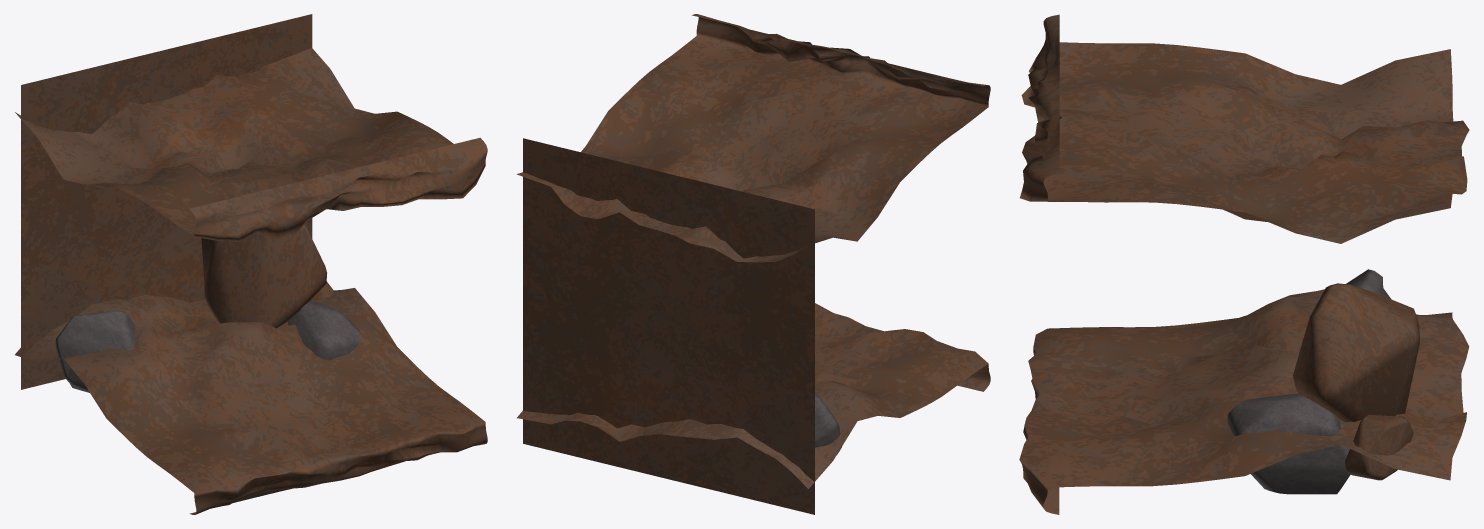
File: BackgroundScene_03.fbx
The picture shows the model from 3 angles, left to right: view 1: azimuth 30°, elevation 25°; view 2: azimuth 150°, elevation 25°; view 3: azimuth 270°, elevation 25°; orthographic projection. The views are drawn at different scales.
Parts seen in each view (by area): view 1: BackgroundScene_03; view 2: BackgroundScene_03; view 3: BackgroundScene_03.
Part boxes in pixels (left/top/right/bottom): BackgroundScene_03: left=15, top=14, right=487, bottom=514; BackgroundScene_03: left=517, top=14, right=990, bottom=514; BackgroundScene_03: left=1019, top=14, right=1469, bottom=514.
Size of the model in its own units: 10 by 10.44 by 11.96.
